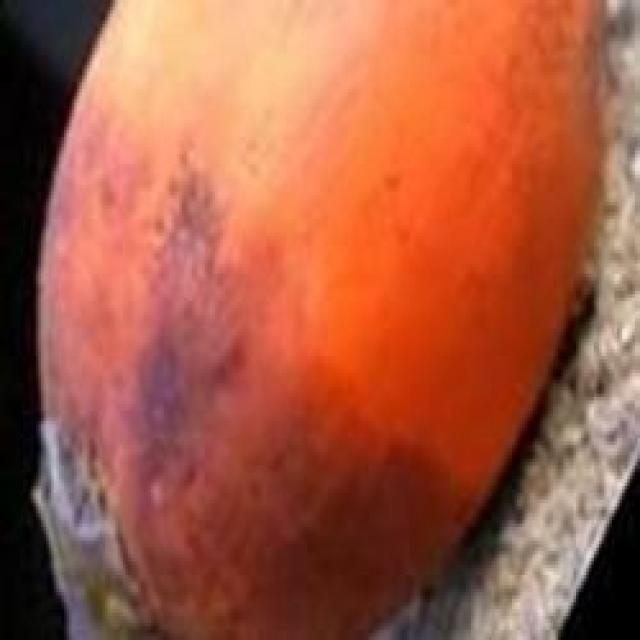good: (28, 0, 609, 637)
